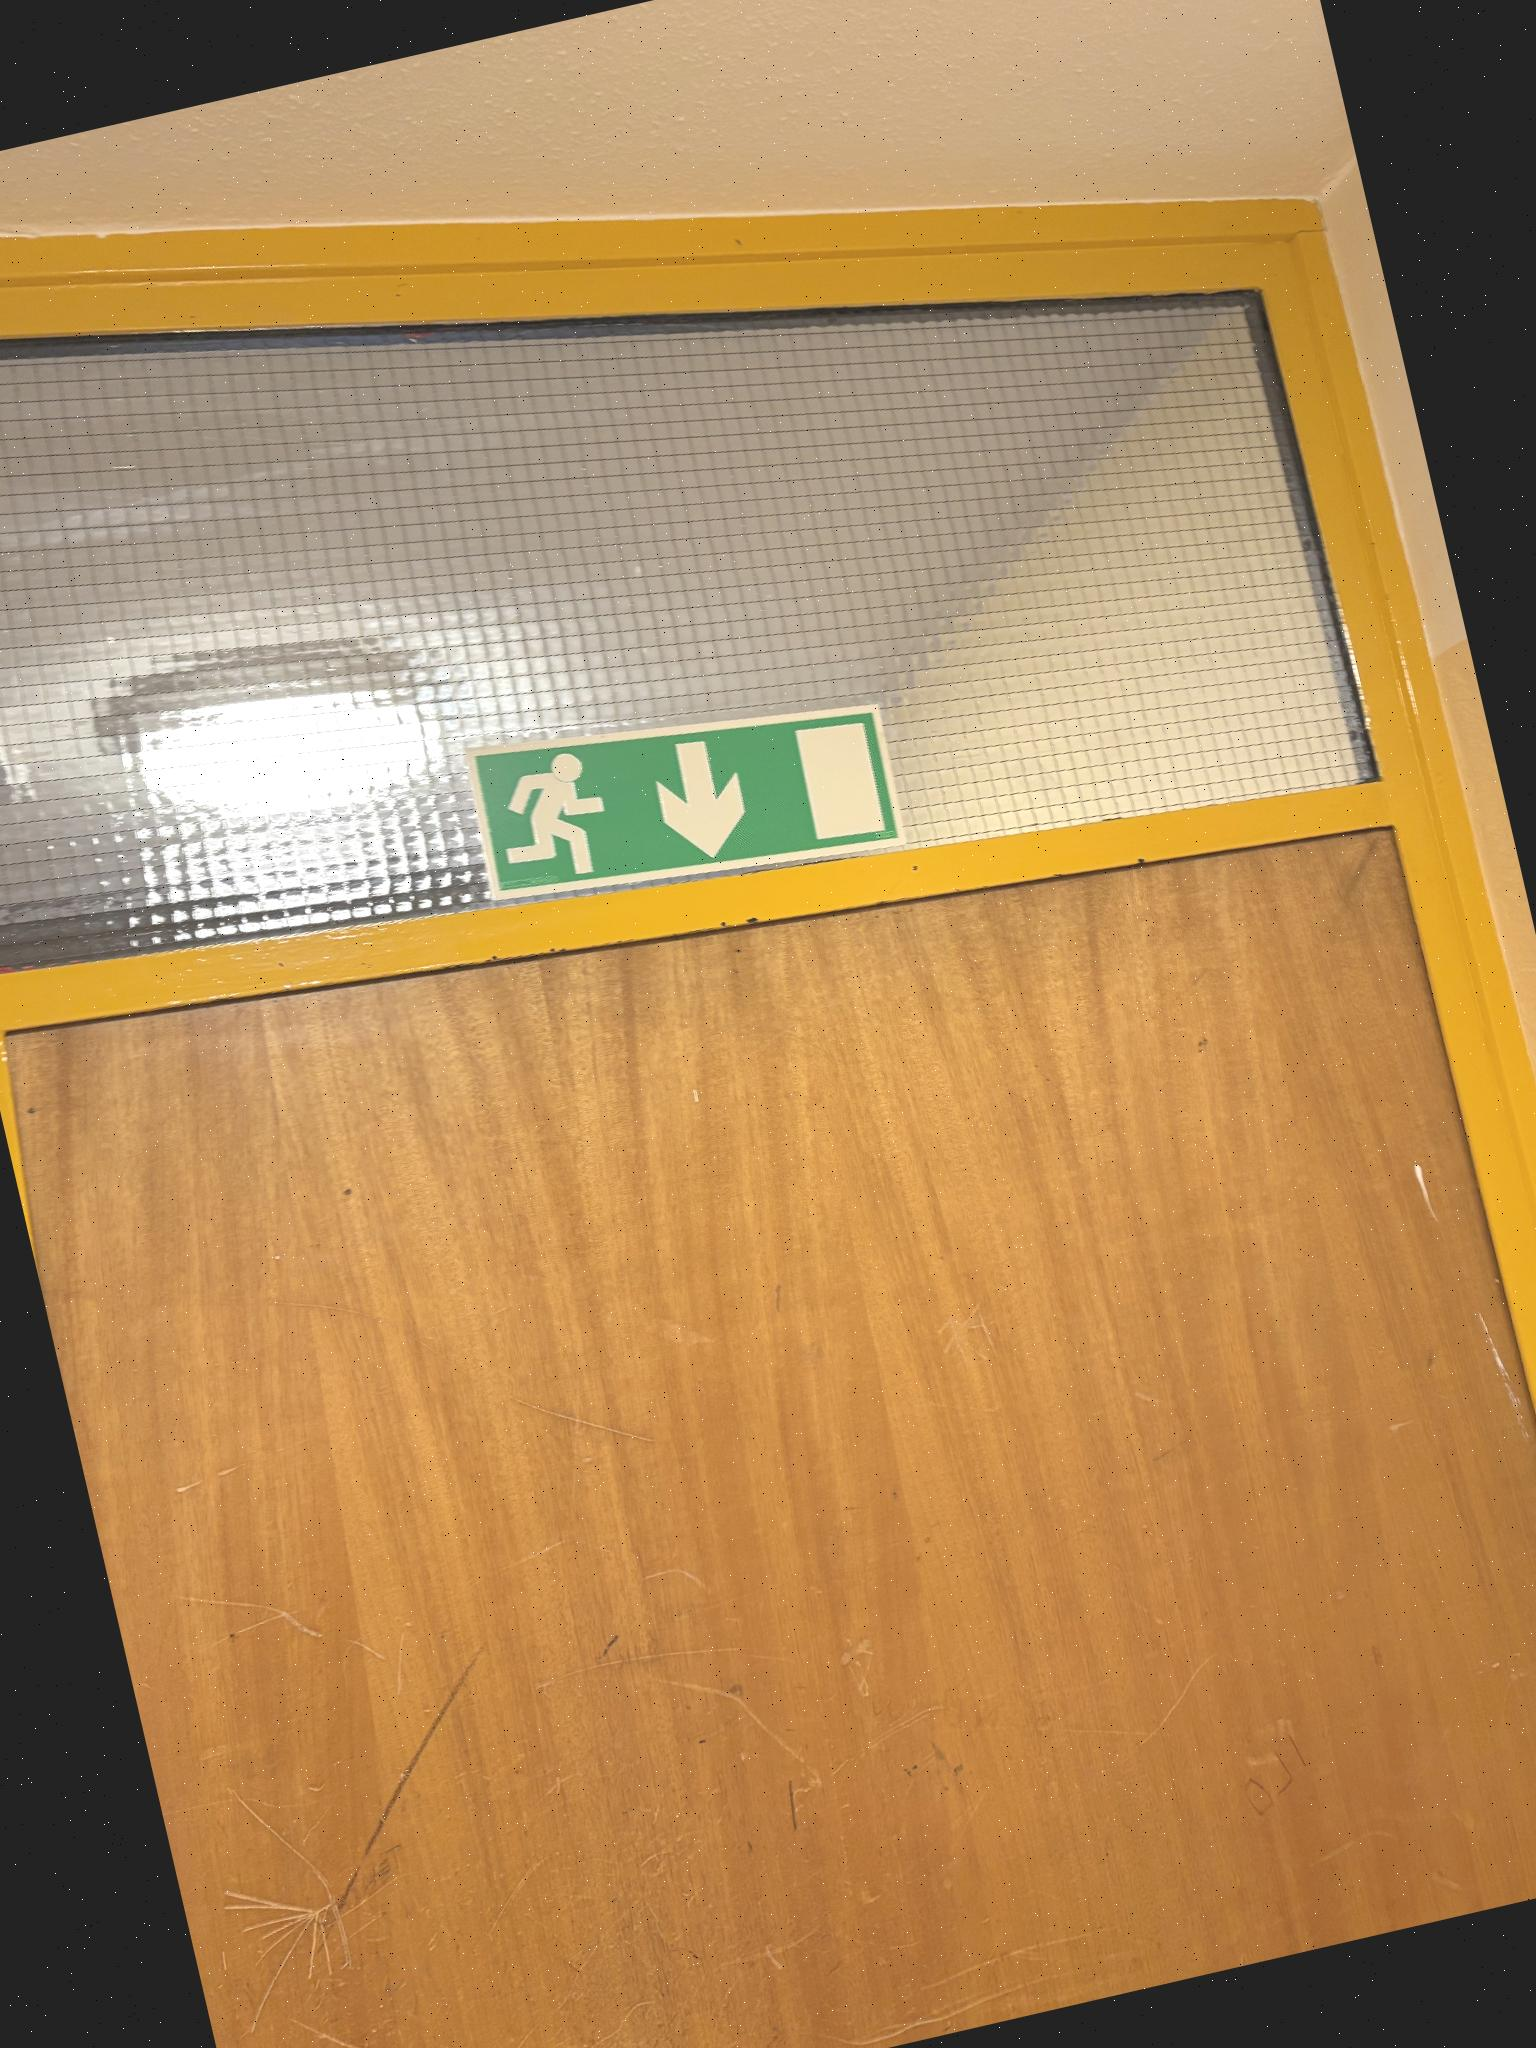exit_sign: (478, 693, 884, 910)
